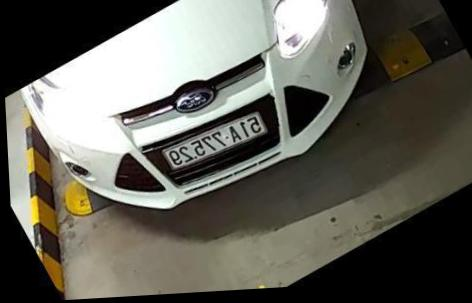License_Plate: (158, 109, 273, 179)
